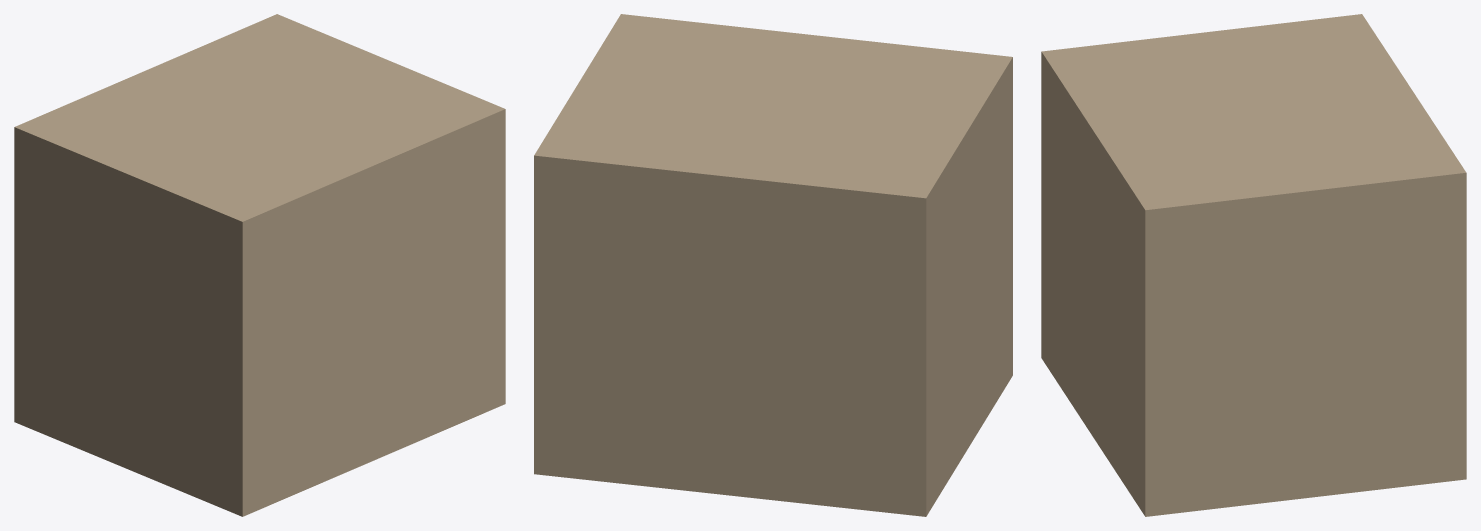
Rendered from bld_163484280.dae.
The picture shows the model from 3 angles, left to right: view 1: azimuth 30°, elevation 25°; view 2: azimuth 150°, elevation 25°; view 3: azimuth 270°, elevation 25°; orthographic projection. The views are drawn at different scales.
Visible parts, largest first — view 1: bld_163484280; view 2: bld_163484280; view 3: bld_163484280.
Boxes of the visible parts, x1,y1,x2,y2 form: bld_163484280: [14, 14, 505, 516]; bld_163484280: [534, 14, 1012, 516]; bld_163484280: [1041, 14, 1466, 516].
Bounding box in the file's own units: 10.98 × 10.05 × 8.
